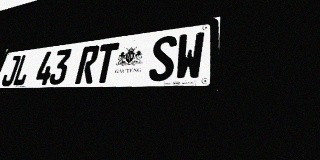3: (48, 48, 72, 85)
4: (34, 50, 57, 85)
J: (0, 55, 22, 86)
L: (11, 53, 34, 86)
R: (74, 45, 100, 84)
S: (148, 35, 178, 81)
T: (93, 42, 119, 83)
W: (174, 31, 205, 81)
